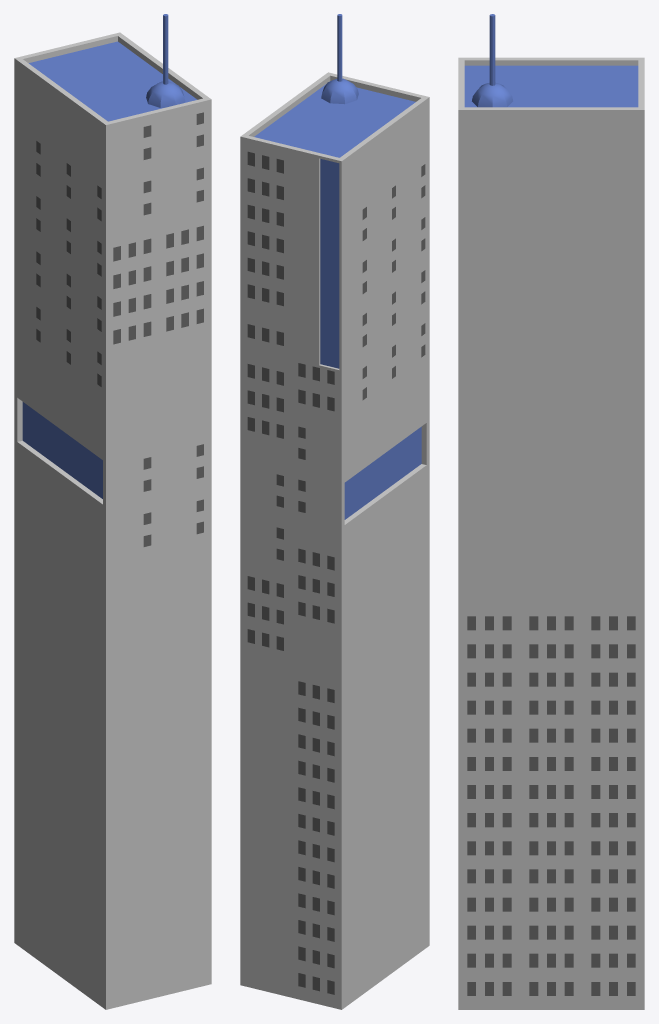
The model's file is SkyScraperModule02.fbx.
3 views of the same model, side by side, from view 1: azimuth 30°, elevation 25°; view 2: azimuth 150°, elevation 25°; view 3: azimuth 270°, elevation 25° (orthographic). The views are drawn at different scales.
Parts seen in each view (by area): view 1: Skyscraper.002; view 2: Skyscraper.002; view 3: Skyscraper.002.
Part boxes in pixels (bbox=[...]): Skyscraper.002: bbox=[14, 14, 211, 1009]; Skyscraper.002: bbox=[240, 14, 429, 1009]; Skyscraper.002: bbox=[458, 14, 644, 1009].
Size of the model in its own units: 200 by 1743 by 300.
